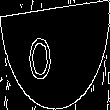O_N: (42, 28, 68, 82)
